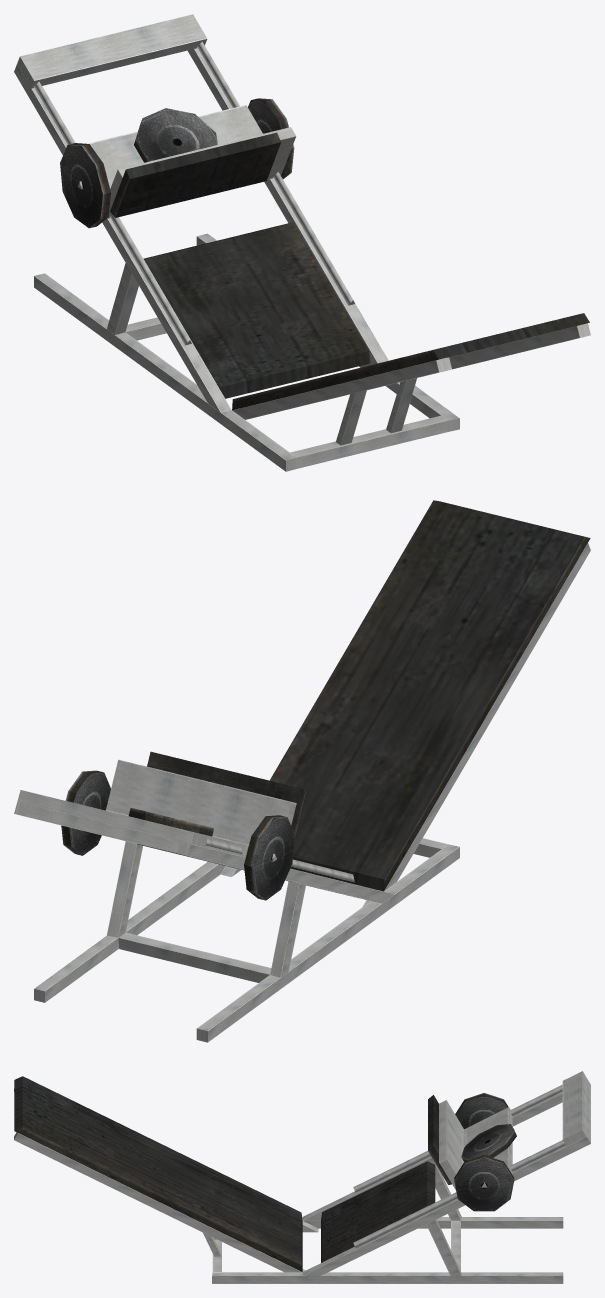
Rendered from M_Home_Garden_Machine4.fbx.
The picture shows the model from 3 angles, top to bottom: view 1: azimuth 30°, elevation 25°; view 2: azimuth 150°, elevation 25°; view 3: azimuth 270°, elevation 25°; orthographic projection. The views are drawn at different scales.
Visible parts, largest first — view 1: M_Home_Garden_Machine4; view 2: M_Home_Garden_Machine4; view 3: M_Home_Garden_Machine4.
Boxes of the visible parts, x1,y1,x2,y2 form: M_Home_Garden_Machine4: (14,14,590,471); M_Home_Garden_Machine4: (14,500,590,1042); M_Home_Garden_Machine4: (14,1071,590,1283).
Bounding box in the file's own units: 63.84 × 69.4 × 236.
